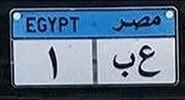1: (46, 44, 62, 81)
ain: (137, 40, 161, 80)
baa: (110, 50, 136, 79)
